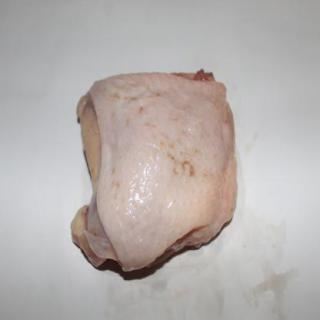Ayam: (79, 77, 239, 274)
